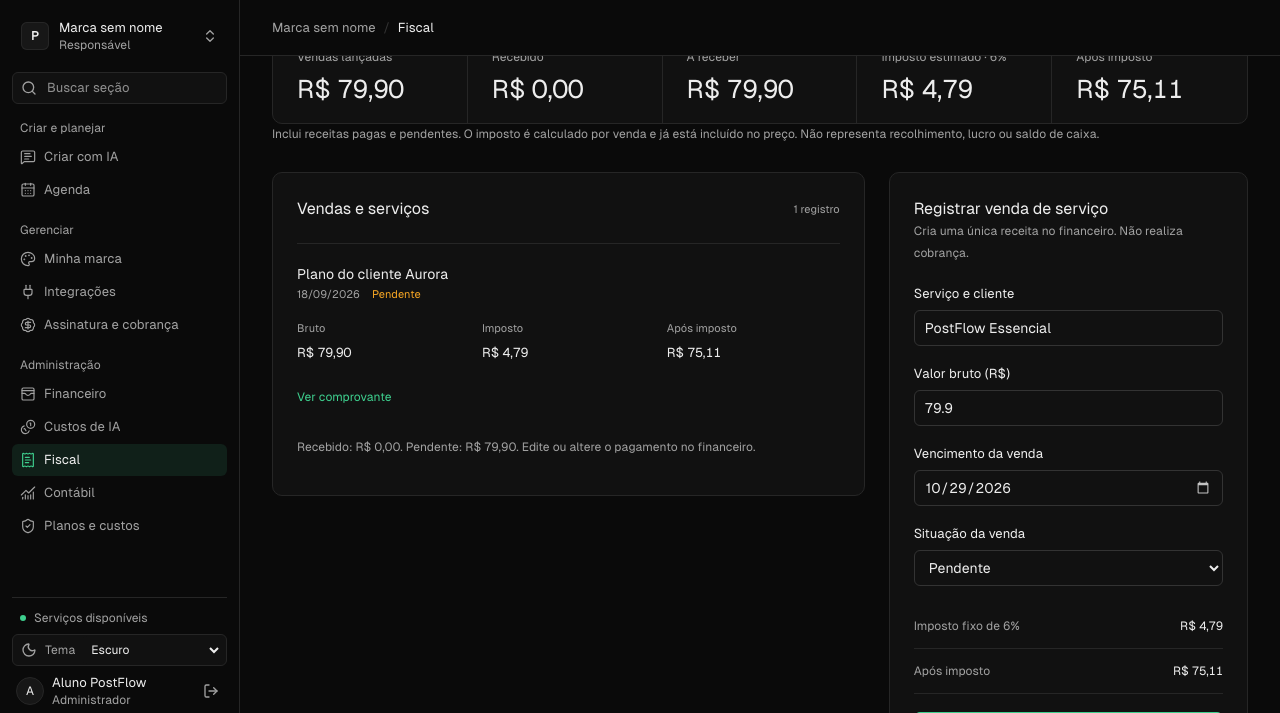
Test: FiscalPage › mostra imposto e comprovante acadêmico pendente
The width and height of the screenshot is (1280, 713).
(page scrolled)
Expected: the heading "Plano do cliente Aurora" is shown, [297,266,448,282]
Click the button "Ver comprovante" at [344, 397], box [297,377,392,417]
(page scrolled)
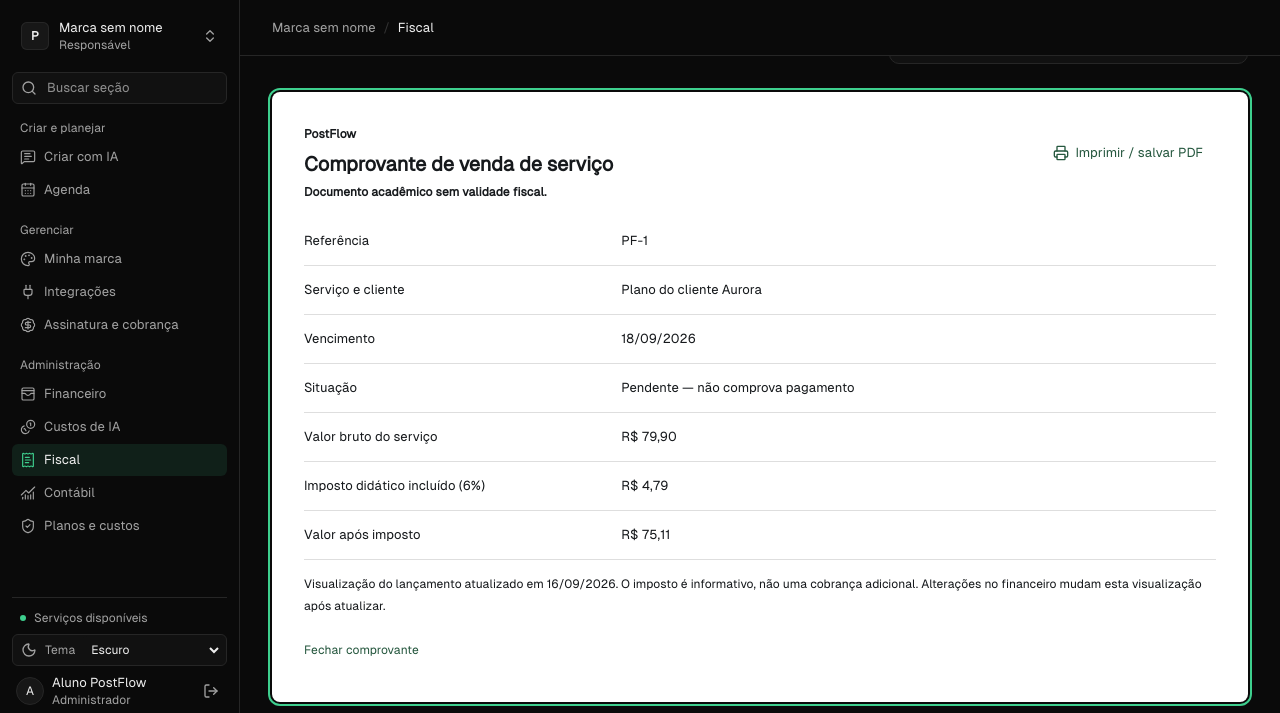
Expected: the text "Pendente — não comprova pagamento" is shown, [621,380,854,395]
Expected: the text "R$ 4,79" is shown, [621,478,668,493]
Expected: the text "Documento acadêmico sem validade fiscal." is shown, [304,185,546,199]
